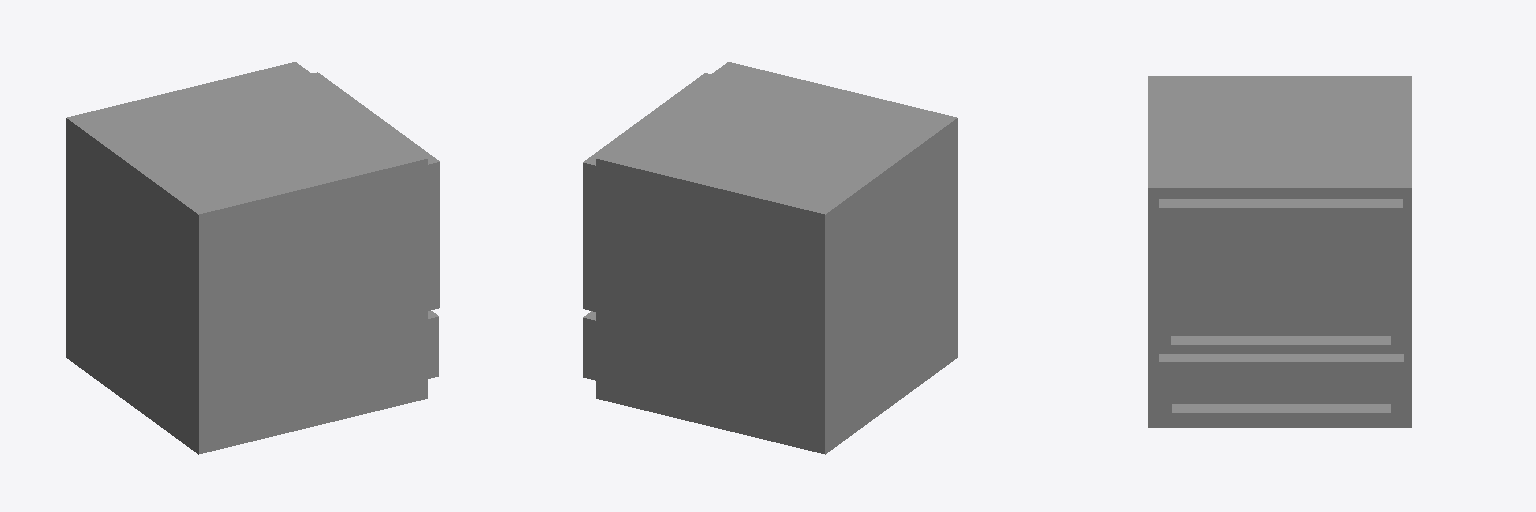
Rendered from chest_shop.obj.
3 renders of one model, left to right at view 1: azimuth 30°, elevation 25°; view 2: azimuth 150°, elevation 25°; view 3: azimuth 270°, elevation 25°, orthographic.
Parts seen in each view (by area): view 1: Cube; view 2: Cube; view 3: Cube.
Part boxes in pixels (left/top/right/bottom): Cube: left=66, top=62, right=439, bottom=454; Cube: left=583, top=62, right=957, bottom=454; Cube: left=1148, top=76, right=1411, bottom=427.
Bounding box in the file's own units: 1.08 × 1 × 1.